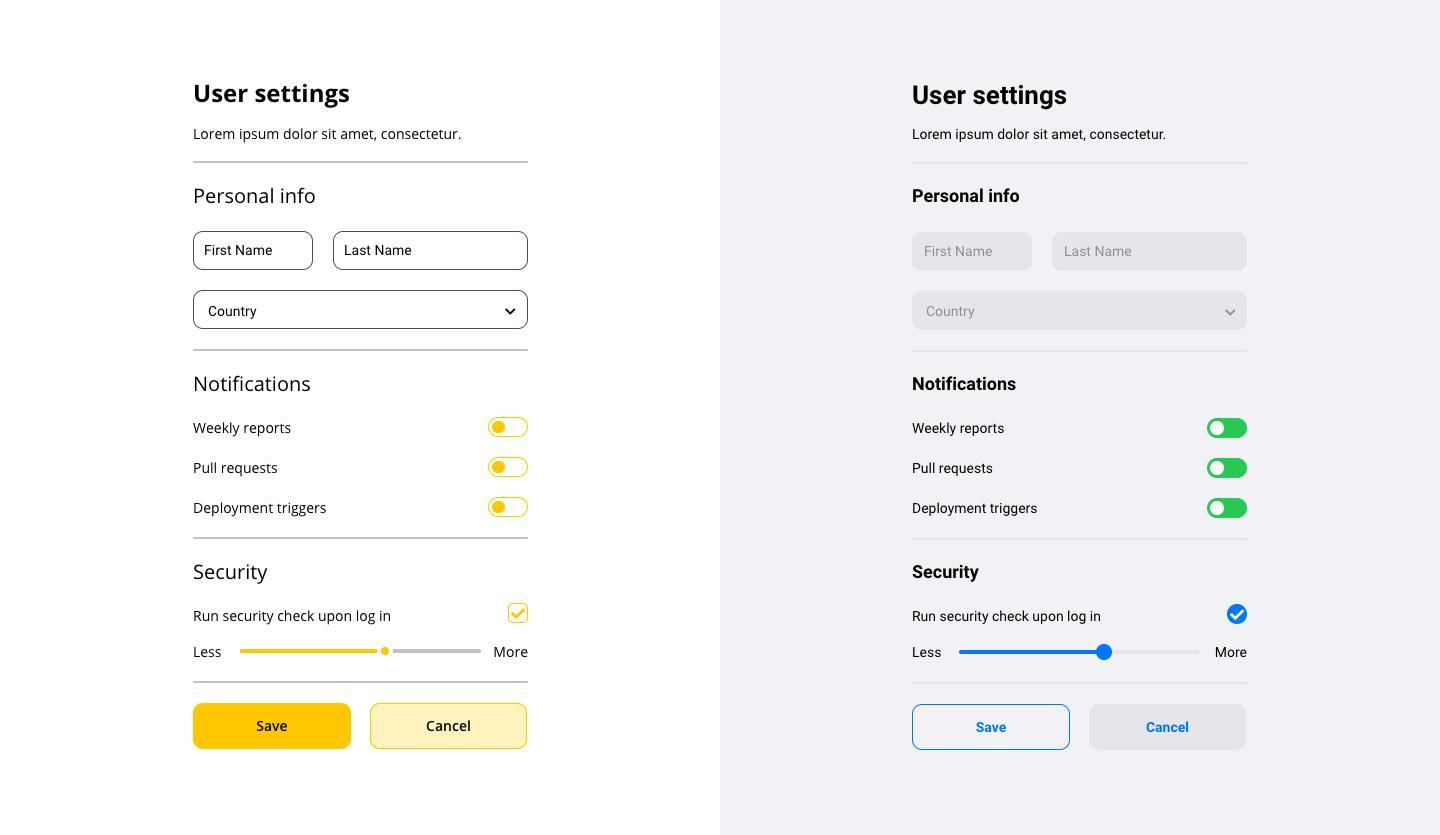button: (910, 703, 1073, 754), (194, 702, 353, 751), (371, 702, 530, 751), (1090, 703, 1248, 752)
checkbox: (507, 602, 531, 625), (1227, 603, 1249, 625)
dropdown: (195, 289, 531, 333), (912, 292, 1249, 333)
input: (1053, 232, 1249, 272), (335, 231, 526, 269), (192, 231, 315, 272), (913, 233, 1033, 273)
label: (194, 124, 464, 146), (909, 82, 1069, 111), (190, 85, 354, 110), (912, 130, 1171, 144), (193, 608, 393, 624), (909, 609, 1105, 625), (186, 372, 315, 395), (194, 184, 320, 205), (194, 499, 328, 516), (911, 372, 1018, 393), (913, 188, 1022, 207), (911, 502, 1040, 517), (193, 419, 292, 438), (192, 562, 271, 585), (912, 420, 1007, 438), (911, 561, 983, 583), (911, 460, 995, 477), (194, 460, 280, 475), (492, 647, 531, 662), (192, 646, 224, 661), (1215, 646, 1249, 659), (910, 647, 942, 660)
slider: (958, 642, 1203, 661), (239, 645, 484, 660)
switch: (487, 456, 531, 478), (488, 417, 529, 439), (1207, 499, 1249, 520), (490, 497, 530, 519), (1208, 459, 1248, 479), (1208, 419, 1248, 438)
